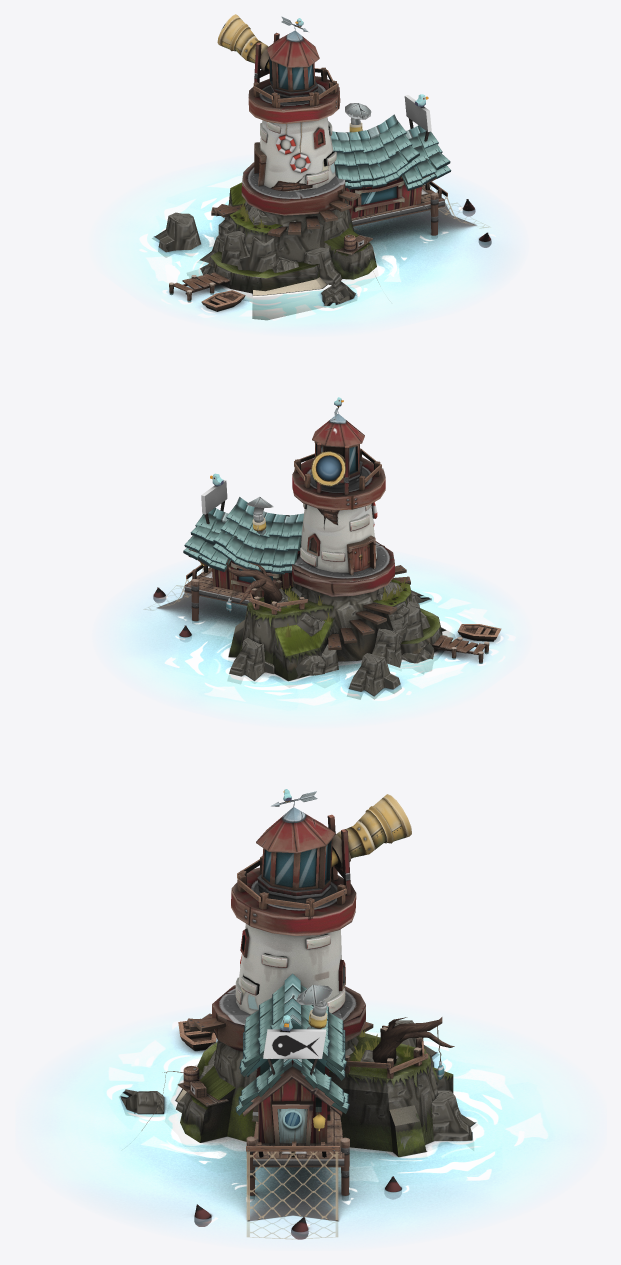
The model's file is the_lighthouse.glb.
The picture shows the model from 3 angles, top to bottom: view 1: azimuth 30°, elevation 25°; view 2: azimuth 150°, elevation 25°; view 3: azimuth 270°, elevation 25°; orthographic projection. The views are drawn at different scales.
Parts seen in each view (by area): view 1: Plane001, Cylinder001, Box091, Box003, Cylinder010, Box025, Box063, Box030, Box066, Box062, Box006, Box004 (+1 smaller); view 2: Plane001, Cylinder001, Box091, Box003, Box025, Box054, Cylinder010, Cylinder027, Box060, Box030, Box004, Box035 (+5 smaller); view 3: Plane001, Cylinder001, Box003, Box091, Cylinder010, Plane002, Box004, Box054, Cylinder027, Box006, Box043, Cylinder006 (+2 smaller).
Boxes of the visible parts, x1,y1,x2,y2 form: Plane001: (99, 158, 518, 332); Cylinder001: (208, 30, 376, 320); Box091: (331, 120, 451, 190); Box003: (331, 103, 445, 226); Cylinder010: (217, 14, 269, 71); Box025: (152, 212, 200, 257); Box063: (237, 236, 277, 272); Box030: (169, 272, 230, 302); Box066: (304, 247, 341, 285); Box062: (221, 231, 248, 266); Box006: (321, 280, 357, 308); Box004: (404, 95, 431, 141); Plane001: (102, 554, 522, 724); Cylinder001: (229, 413, 455, 681); Box091: (183, 505, 302, 574); Box003: (184, 497, 303, 605); Box025: (347, 653, 401, 699); Box054: (228, 637, 274, 683); Cylinder010: (311, 451, 346, 486); Cylinder027: (228, 562, 282, 603); Box060: (372, 628, 401, 667); Box030: (432, 635, 489, 663); Box004: (201, 479, 227, 524); Box035: (457, 624, 501, 641); Plane001: (23, 1005, 596, 1245); Cylinder001: (176, 807, 453, 1156); Box003: (242, 973, 344, 1167); Box091: (235, 984, 349, 1115); Cylinder010: (331, 794, 411, 867); Plane002: (246, 1151, 338, 1239); Box004: (263, 1029, 326, 1075); Box054: (431, 1090, 474, 1149); Cylinder027: (372, 1017, 454, 1064); Box006: (119, 1089, 163, 1116); Box043: (344, 1025, 428, 1078); Cylinder006: (246, 1136, 349, 1200).
Bounding box in the file's own units: 800 × 520 × 800.
Materials: 34 (33 with a texture image).
